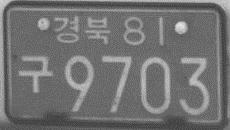0: (138, 54, 172, 113)
1: (154, 12, 167, 47)
3: (178, 54, 210, 115)
7: (98, 54, 134, 115)
8: (122, 14, 146, 47)
9: (62, 54, 95, 114)
경북_O: (51, 14, 112, 46)
구: (17, 51, 54, 95)
